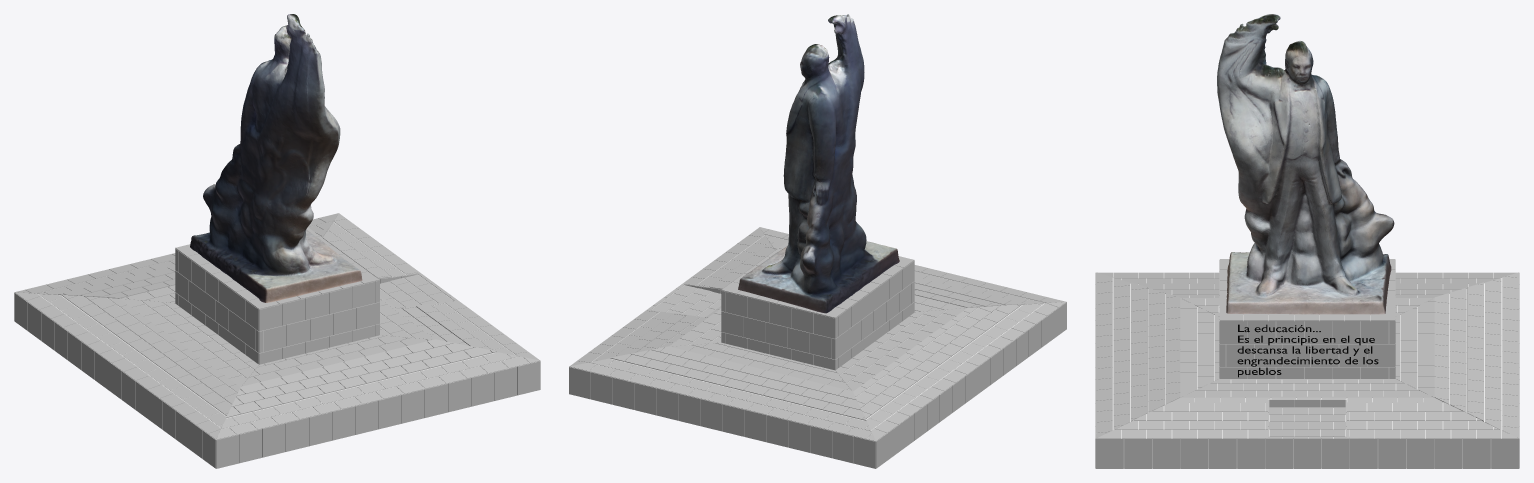
Rendered from BenitoJuarez.fbx.
3 renders of one model, left to right at view 1: azimuth 30°, elevation 25°; view 2: azimuth 150°, elevation 25°; view 3: azimuth 270°, elevation 25°, orthographic. The views are drawn at different scales.
Parts seen in each view (by area): view 1: benito, piso.004, piso.006, piso.052, piso.035, piso.032, piso.037, piso.038, piso.013, piso.014, piso.041, piso.042 (+23 smaller); view 2: benito, piso.005, piso.006, piso.051, piso.035, piso.033, piso.037, piso.039, piso.017, piso.016, piso.041, piso.043 (+23 smaller); view 3: benito, piso.003, piso.007, piso.001, piso.008, piso.034, piso.051, piso.052, piso.036, piso.040, piso.033, piso.032 (+29 smaller).
Part boxes in pixels (box(x1,y1,x2,y2)): benito: box(190, 14, 362, 302); piso.004: box(216, 361, 540, 468); piso.006: box(14, 292, 215, 468); piso.052: box(216, 356, 539, 439); piso.035: box(15, 292, 221, 439); piso.032: box(221, 352, 518, 428); piso.037: box(38, 294, 226, 427); piso.038: box(226, 347, 496, 417); piso.013: box(259, 280, 379, 331); piso.014: box(259, 302, 379, 352); piso.041: box(61, 294, 231, 415); piso.042: box(231, 343, 475, 406); benito: box(738, 14, 899, 313); piso.005: box(569, 367, 875, 468); piso.006: box(876, 302, 1066, 468); piso.051: box(569, 362, 875, 441); piso.035: box(871, 302, 1065, 440); piso.033: box(590, 358, 870, 431); piso.037: box(866, 303, 1043, 429); piso.039: box(610, 354, 866, 420); piso.017: box(721, 311, 835, 359); piso.016: box(721, 290, 835, 338); piso.041: box(861, 304, 1022, 418); piso.043: box(631, 350, 861, 410); benito: box(1217, 14, 1394, 314); piso.003: box(1096, 438, 1518, 468); piso.007: box(1220, 321, 1394, 343); piso.001: box(1112, 272, 1502, 468); piso.008: box(1220, 344, 1394, 366); piso.034: box(1097, 429, 1517, 438); piso.051: box(1502, 272, 1518, 438); piso.052: box(1096, 272, 1112, 438); piso.036: box(1115, 421, 1499, 429); piso.040: box(1134, 411, 1480, 420); piso.033: box(1485, 278, 1501, 429); piso.032: box(1113, 278, 1129, 429).
Size of the model in its own units: 475 by 493 by 512.
